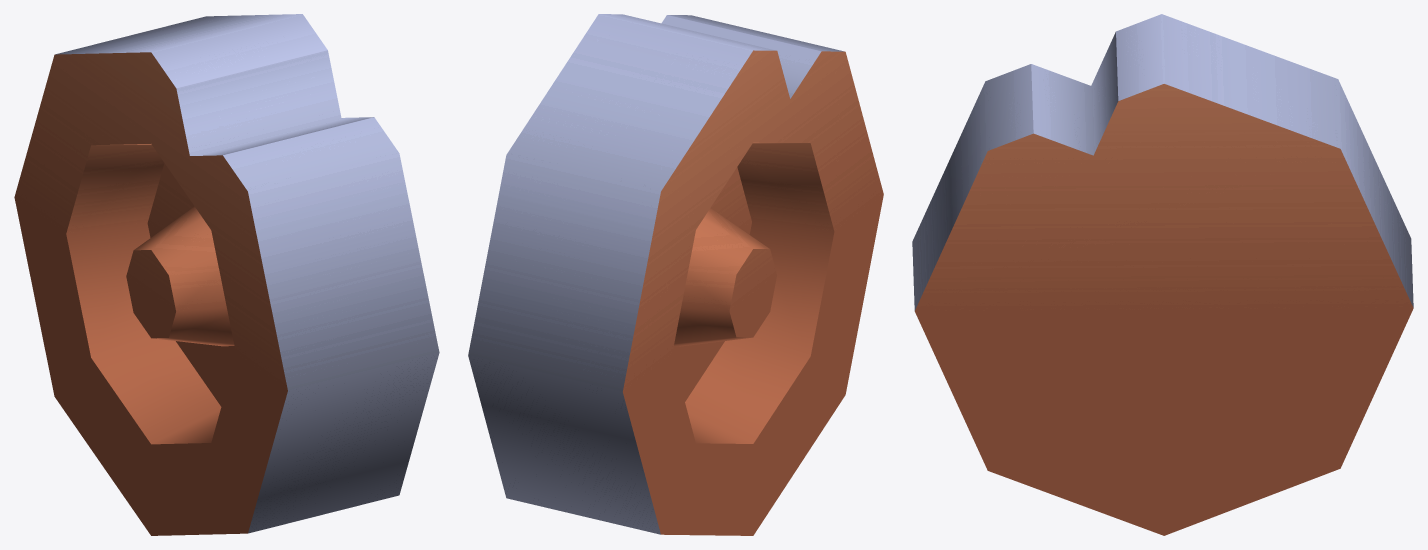
Rendered from wheel.013_lev3.glb.
The picture shows the model from 3 angles, left to right: view 1: azimuth 30°, elevation 25°; view 2: azimuth 150°, elevation 25°; view 3: azimuth 270°, elevation 25°; orthographic projection. The views are drawn at different scales.
Visible parts, largest first — view 1: wheel.013_lev3; view 2: wheel.013_lev3; view 3: wheel.013_lev3.
Part boxes in pixels (x1,y1,x2,y2): wheel.013_lev3: (14, 14, 439, 535); wheel.013_lev3: (468, 14, 883, 535); wheel.013_lev3: (912, 14, 1413, 535).
Bounding box in the file's own units: 0.8257 × 2.39 × 2.4.
1 material, 1 textured.
